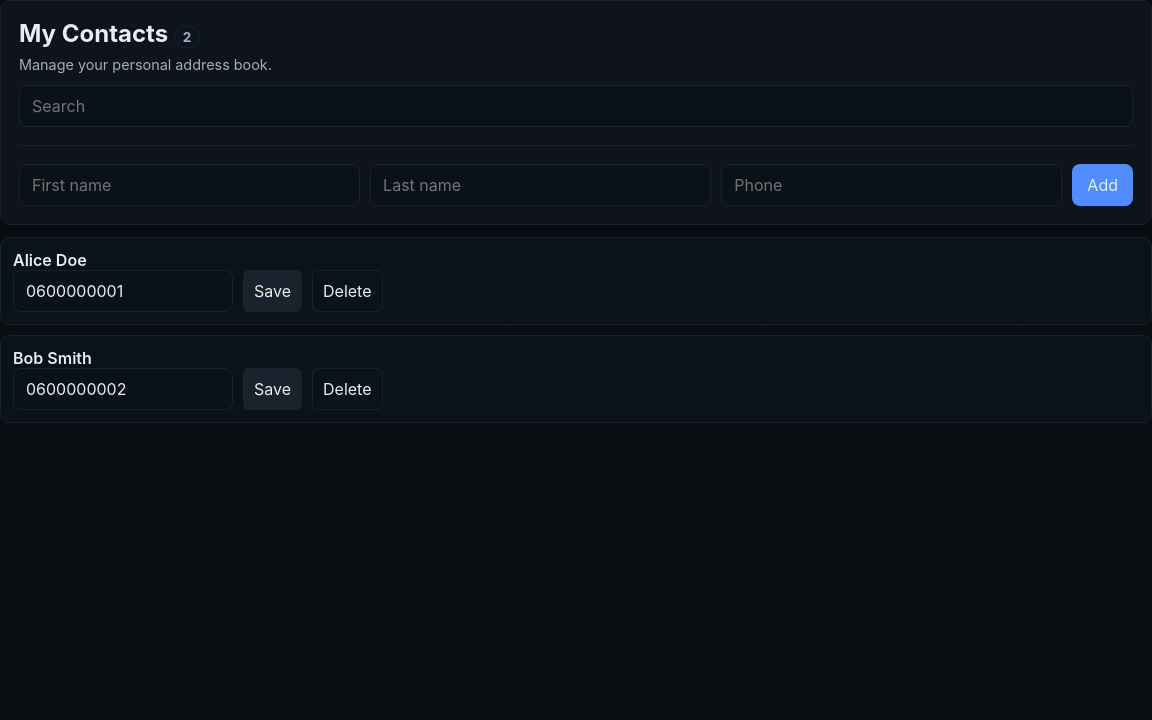
Test: <Contacts /> › delete sends DELETE and reloads
The width and height of the screenshot is (1152, 720).
Check: the text "Alice Doe" is shown, box [13,250,87,270]
Click the button "Delete" below "Doe" at [347, 291], box [312,270,382,312]
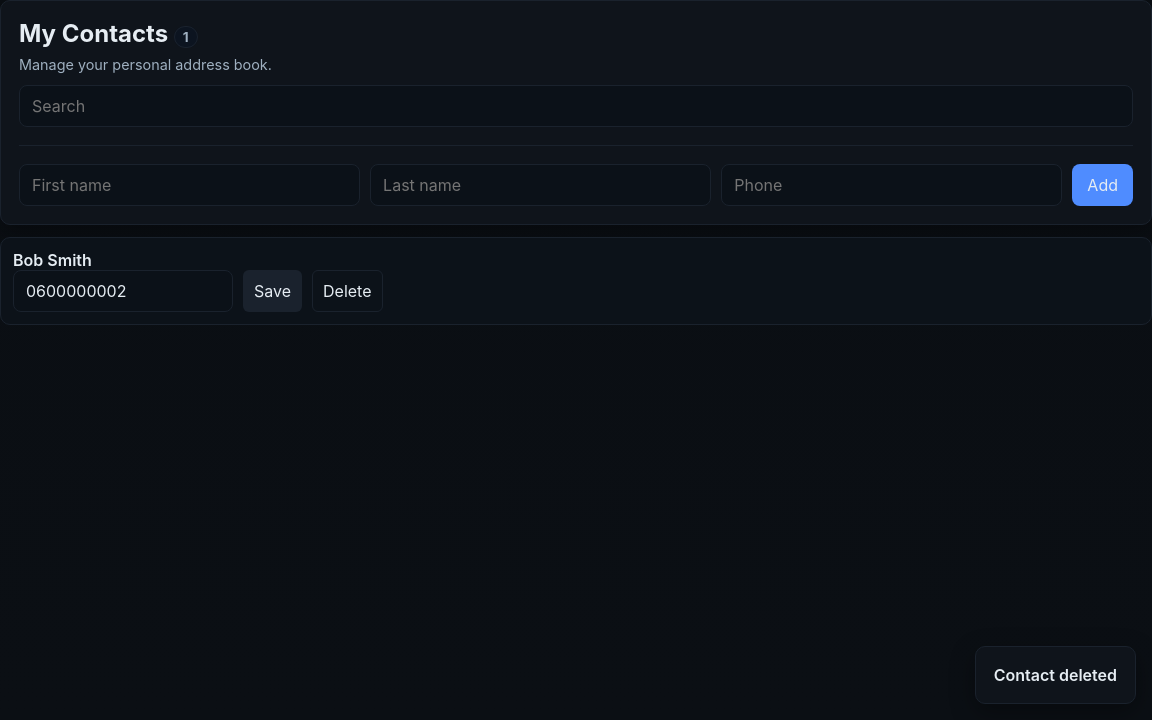
Check: the text "Alice Doe" is gone
